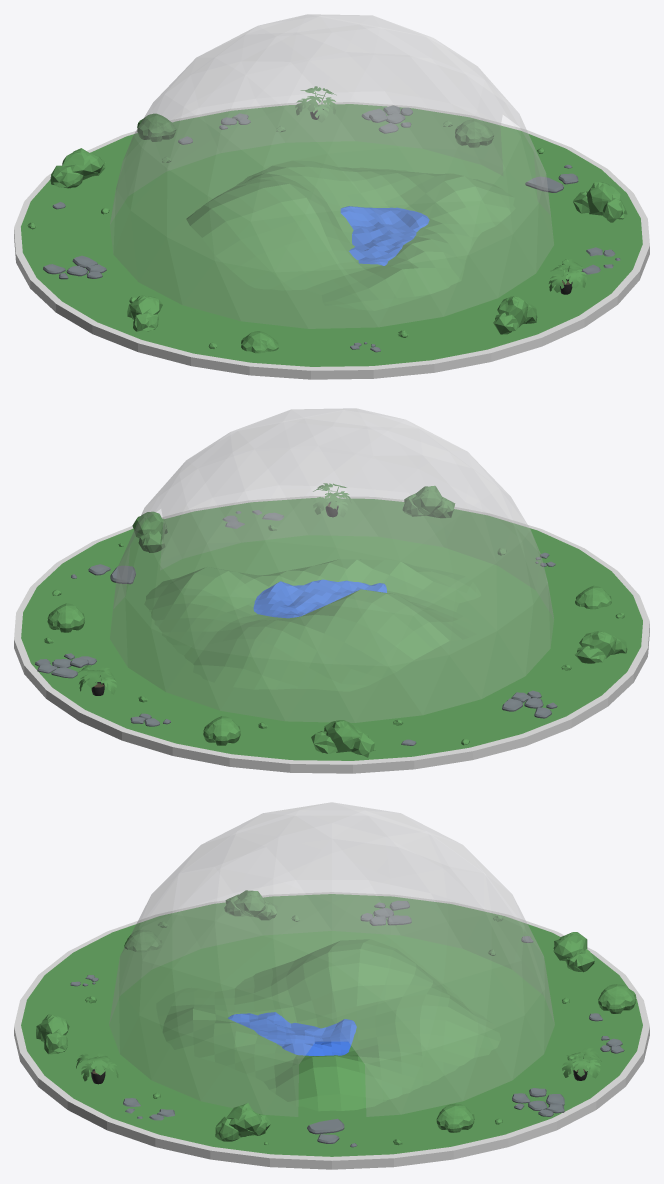
The model's file is LAUDA.glb.
3 views of the same model, one above another, from view 1: azimuth 30°, elevation 25°; view 2: azimuth 150°, elevation 25°; view 3: azimuth 270°, elevation 25° (orthographic).
Parts seen in each view (by area): view 1: dome, dome+floor, hill, outline, water, bush, bush.003, bush.002, bush.017, bush.001, bush.015, lonestone3.003 (+4 smaller); view 2: dome, dome+floor, hill, outline, water, bush.003, bush.002, bush.017, bush, bush.001, bush.015, lonestone3.003 (+4 smaller); view 3: dome, dome+floor, hill, outline, water, bush, bush.003, bush.017, bush.002, bush.001, bush.015, lonestone3.003 (+4 smaller).
Boxes of the visible parts, x1,y1,x2,y2 form: dome: [110, 14, 553, 328]; dome+floor: [21, 104, 642, 366]; hill: [186, 160, 515, 310]; outline: [14, 102, 649, 379]; water: [340, 206, 429, 265]; bush: [573, 182, 627, 222]; bush.003: [50, 148, 105, 188]; bush.002: [493, 296, 537, 334]; bush.017: [127, 295, 162, 331]; bush.001: [137, 113, 176, 141]; bush.015: [455, 119, 494, 147]; lonestone3.003: [43, 255, 106, 279]; dome: [110, 408, 553, 722]; dome+floor: [21, 498, 642, 760]; hill: [144, 559, 480, 691]; outline: [14, 496, 649, 773]; water: [253, 579, 386, 618]; bush.003: [311, 720, 375, 757]; bush.002: [402, 486, 454, 518]; bush.017: [575, 631, 627, 663]; bush: [132, 511, 167, 552]; bush.001: [203, 716, 240, 745]; bush.015: [47, 603, 84, 632]; lonestone3.003: [502, 690, 557, 718]; dome: [109, 802, 554, 1116]; dome+floor: [21, 894, 642, 1156]; hill: [156, 939, 500, 1111]; outline: [14, 892, 649, 1169]; water: [228, 1012, 356, 1055]; bush: [215, 1103, 270, 1141]; bush.003: [553, 932, 594, 972]; bush.017: [224, 890, 277, 920]; bush.002: [36, 1014, 69, 1054]; bush.001: [598, 984, 636, 1013]; bush.015: [436, 1103, 474, 1132]; lonestone3.003: [360, 900, 411, 925].
Size of the model in its own units: 3.28 by 1.21 by 3.28.
Materials: 10 (1 with a texture image).
